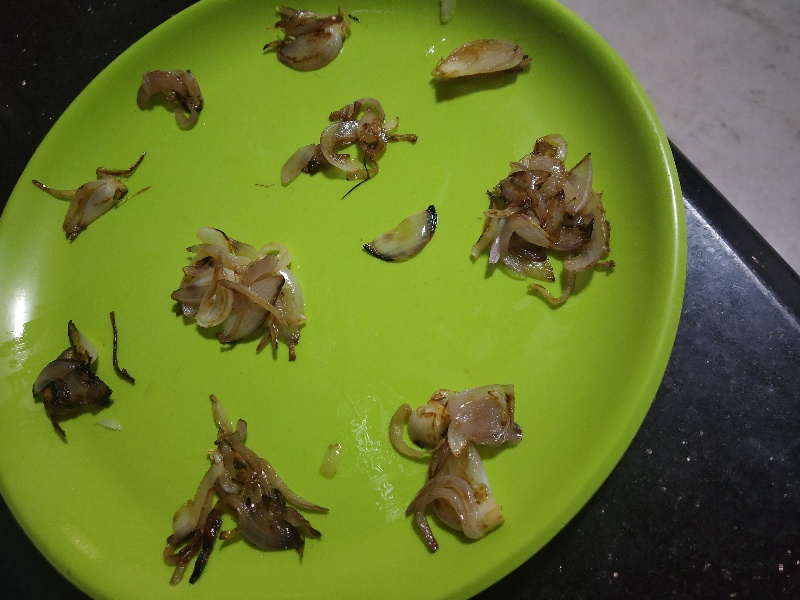onion_burnt: (29, 331, 112, 437)
onion_fried: (471, 131, 617, 305), (277, 95, 421, 183), (48, 154, 144, 239), (254, 4, 361, 77), (130, 65, 213, 128)
onion_golden: (382, 384, 526, 544), (168, 225, 312, 347), (420, 37, 538, 85)
